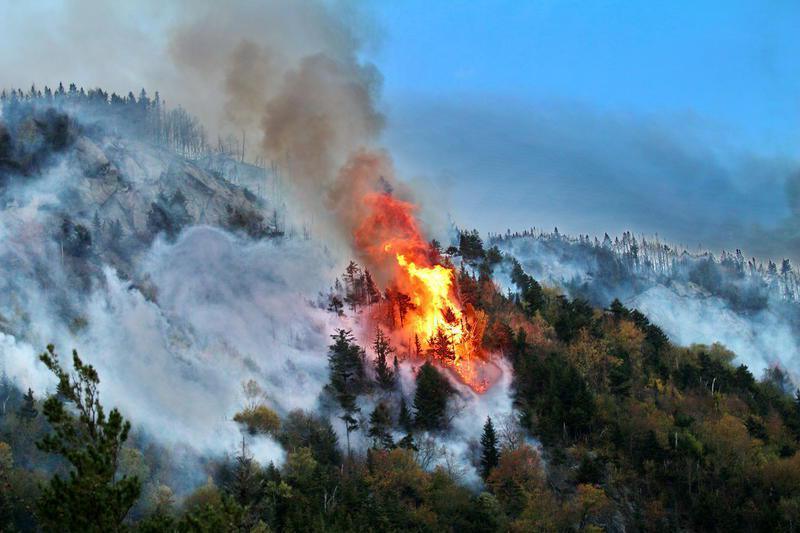Fire: (408, 251, 472, 346)
